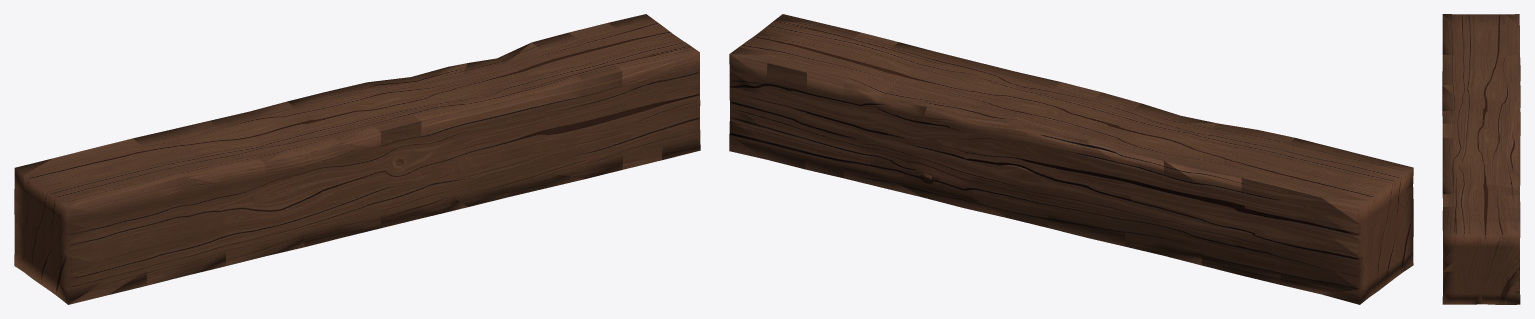
Rendered from beam.glb.
3 renders of one model, left to right at view 1: azimuth 30°, elevation 25°; view 2: azimuth 150°, elevation 25°; view 3: azimuth 270°, elevation 25°, orthographic. The views are drawn at different scales.
Bounding box in the file's own units: 2 × 0.3 × 0.3.
Materials: 1 (1 with a texture image).
